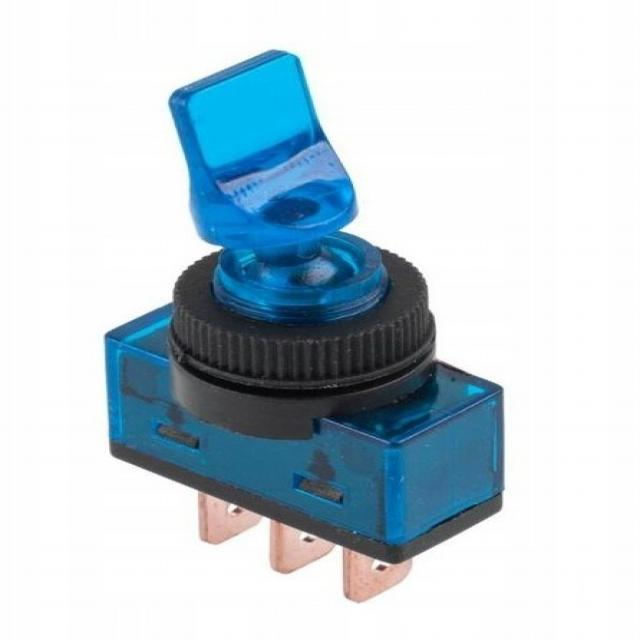toggle switch: (165, 47, 448, 443)
